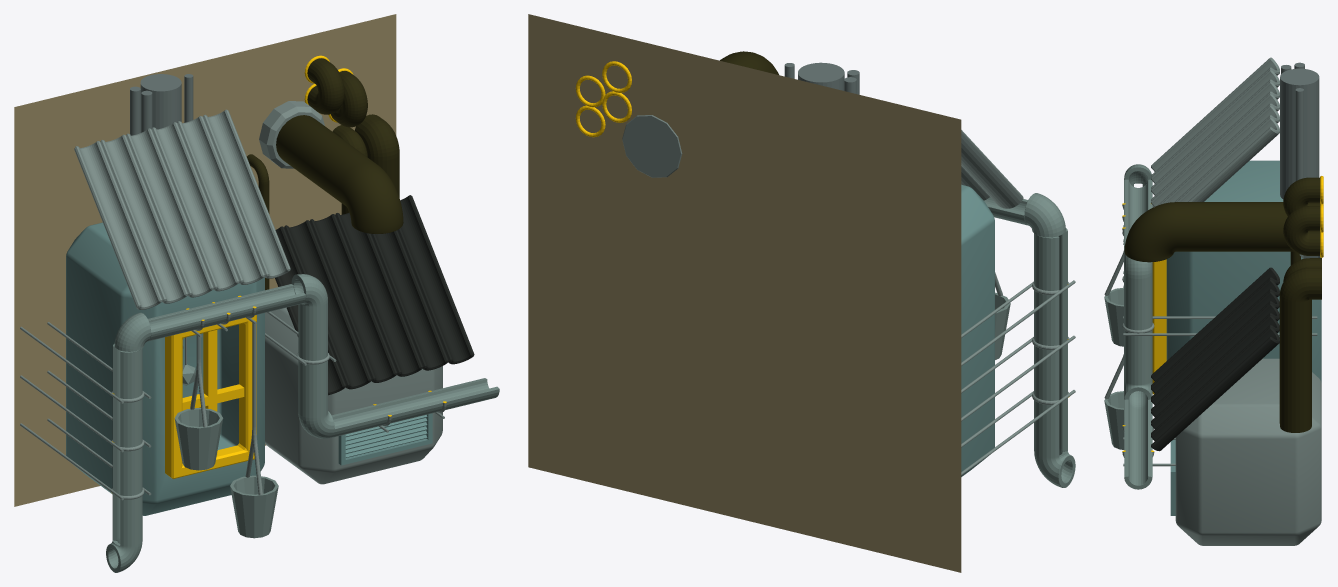
3 views of the same model, side by side, from view 1: azimuth 30°, elevation 25°; view 2: azimuth 150°, elevation 25°; view 3: azimuth 270°, elevation 25° (orthographic). The views are drawn at different scales.
Parts seen in each view (by area): view 1: Cube.047; view 2: Cube.047; view 3: Cube.047.
Boxes of the visible parts, x1,y1,x2,y2 form: Cube.047: (14,14,499,572); Cube.047: (528,14,1075,572); Cube.047: (1104,57,1323,545).
Bounding box in the file's own units: 100 × 100 × 52.17.
